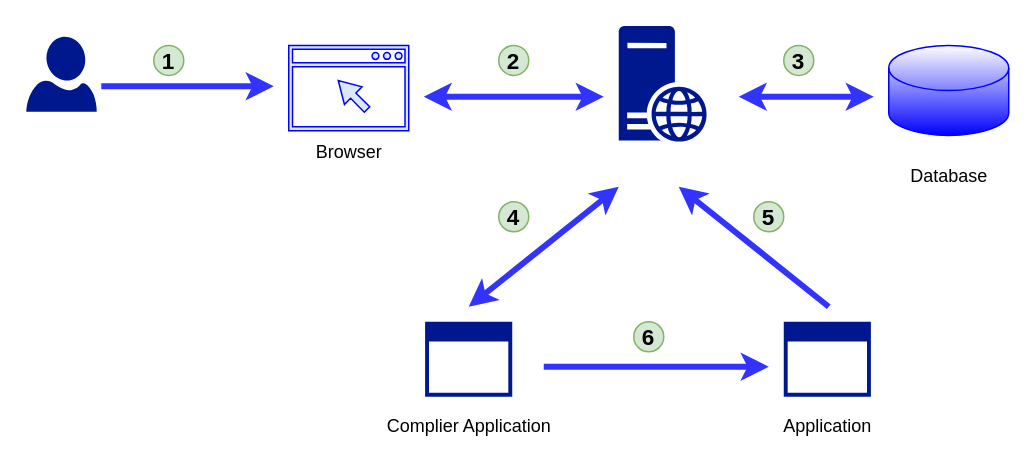
Image size: 1035x468. Some labels were removed from this diagram. Each missing label, with the centre of its shape:
"User" goes at [61,73].
"Web Server" goes at [662,83].
